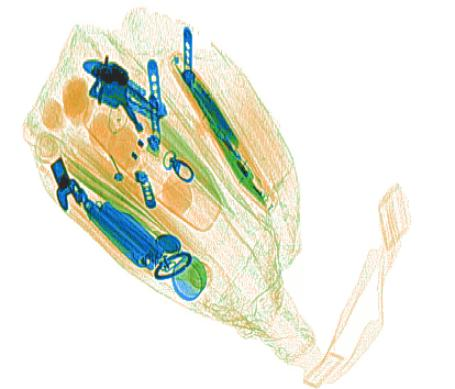knife: (93, 200, 166, 260)
